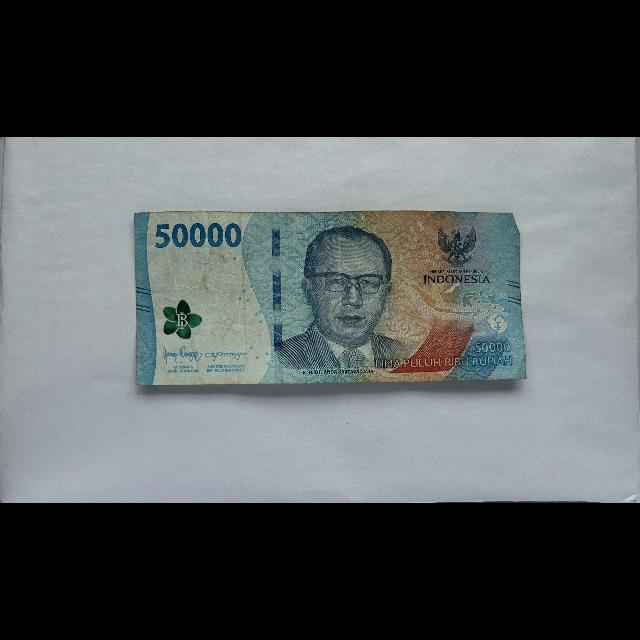Asli-50k: (134, 210, 529, 387)
Tinta-Asli-50k: (162, 300, 203, 341)
